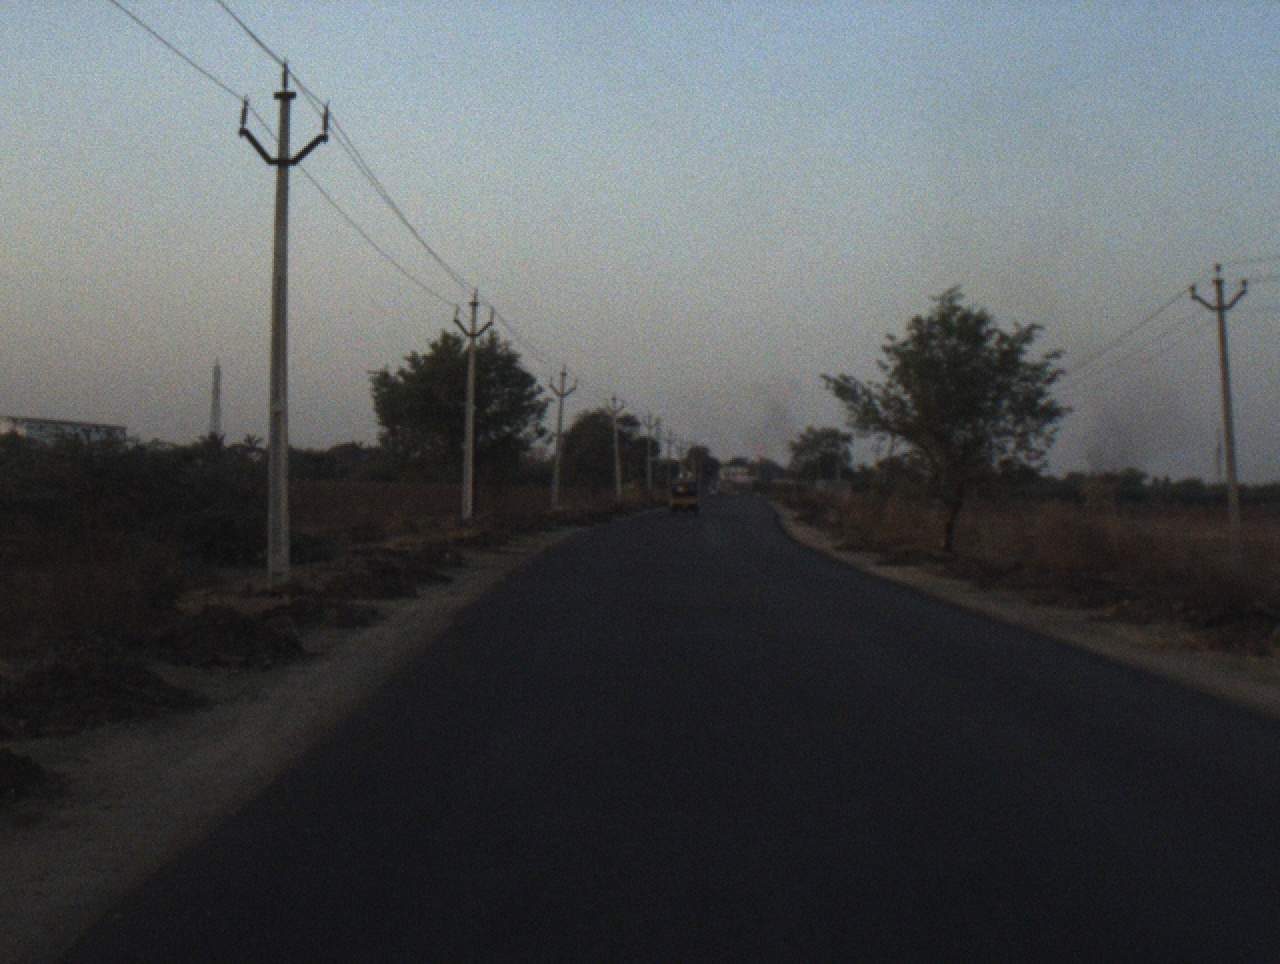autorickshaw: (664, 474, 702, 519)
vehicle fallback: (714, 478, 736, 498)
